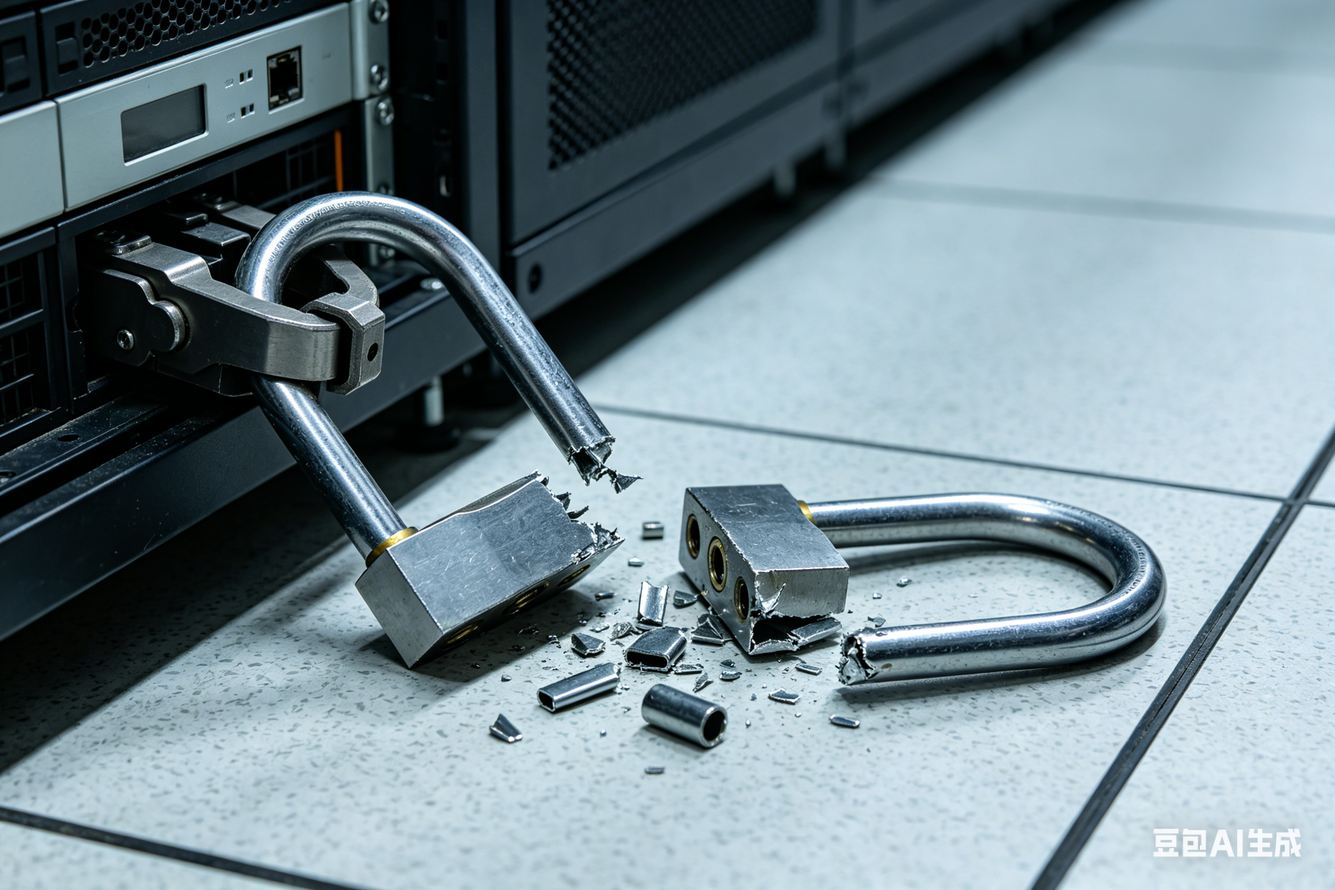BadLock: (527, 390, 846, 665)
